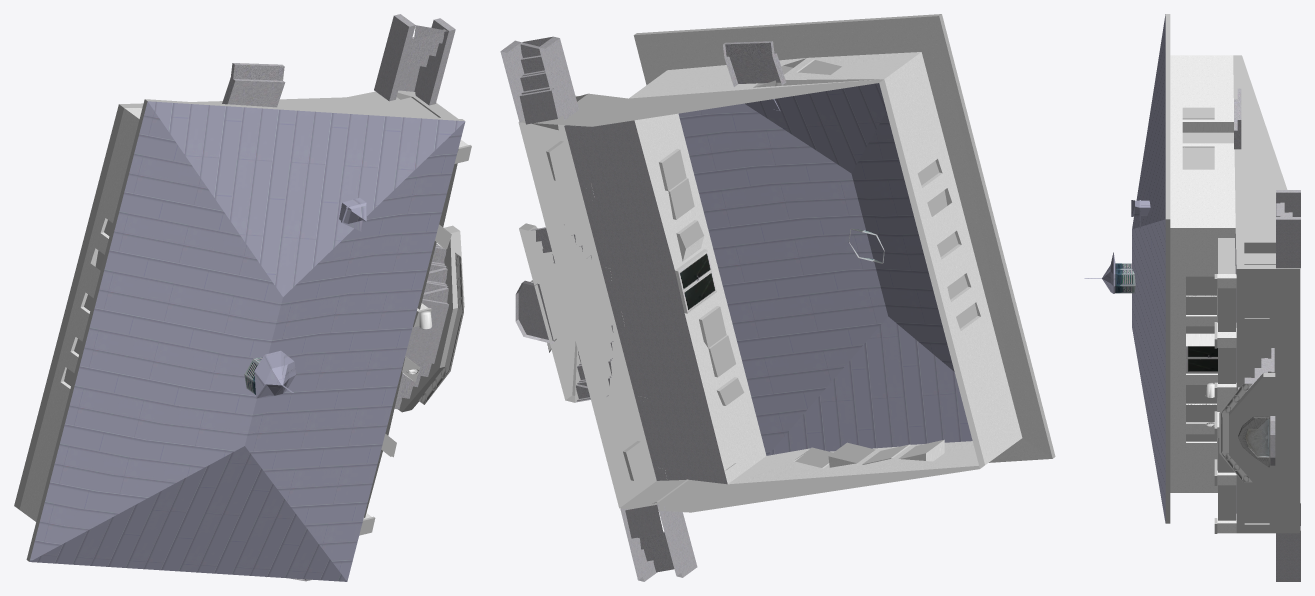
The model's file is Toompuiestee_24a-origo.obj.
3 renders of one model, left to right at view 1: azimuth 30°, elevation 25°; view 2: azimuth 150°, elevation 25°; view 3: azimuth 270°, elevation 25°, orthographic. The views are drawn at different scales.
Visible parts, largest first — view 1: Toompuiestee_24a; view 2: Toompuiestee_24a; view 3: Toompuiestee_24a.
Part boxes in pixels (bbox=[...]): Toompuiestee_24a: bbox=[14, 14, 471, 581]; Toompuiestee_24a: bbox=[500, 14, 1055, 581]; Toompuiestee_24a: bbox=[1084, 14, 1300, 581].
Size of the model in its own units: 18.56 by 21 by 8.68.
